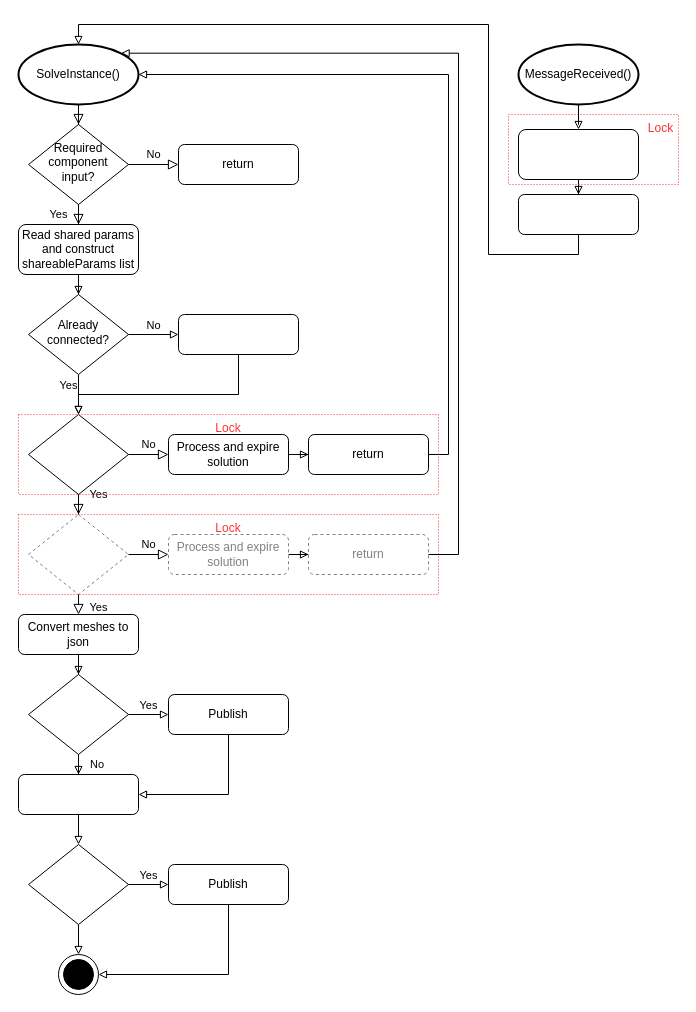
Some shapes in this 696 by 1012 pixel diagram are drawn without their labels. Each missing label, with the centre of its shape:
Connect and subscribe: pixel 238 334
Convert params to json: pixel 78 794
Diff from last mesh json?: pixel 78 714
Diff from last params json?: pixel 78 884
Enqueue for later processing in SolveInstance: pixel 578 154
Expire solution: pixel 578 214
Geometry positions queue empty?: pixel 78 554
Parameter queue empty?: pixel 78 454
